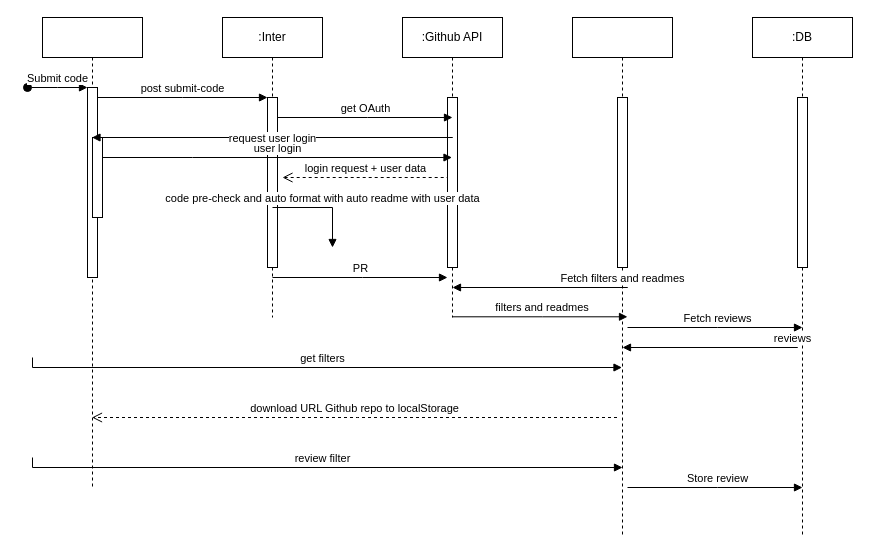
The diagram is 870 pixels wide and 555 high, and some of its shapes have lost their labels. Here are the shapes that lost their labels. From the top down, the centre of each, then its label:
At (92,252): ":Gargoyles-Editor".
At (622,277): ":Store (frontend)".
